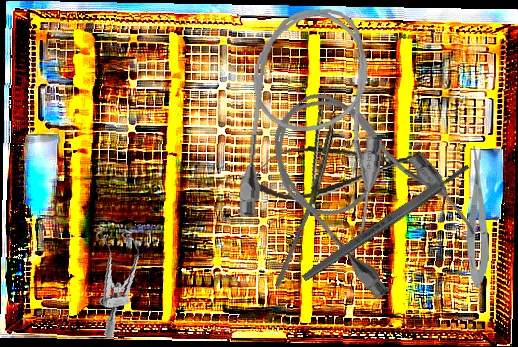Cannula: (245, 63, 485, 311), (236, 1, 394, 246)
Micro Scissor: (239, 132, 421, 207), (465, 146, 492, 288)
Pusher: (275, 153, 333, 288)
Scalpel Handle: (300, 161, 472, 284)
Speculum: (87, 217, 153, 341)
Tissue Forceps: (294, 89, 344, 217)
